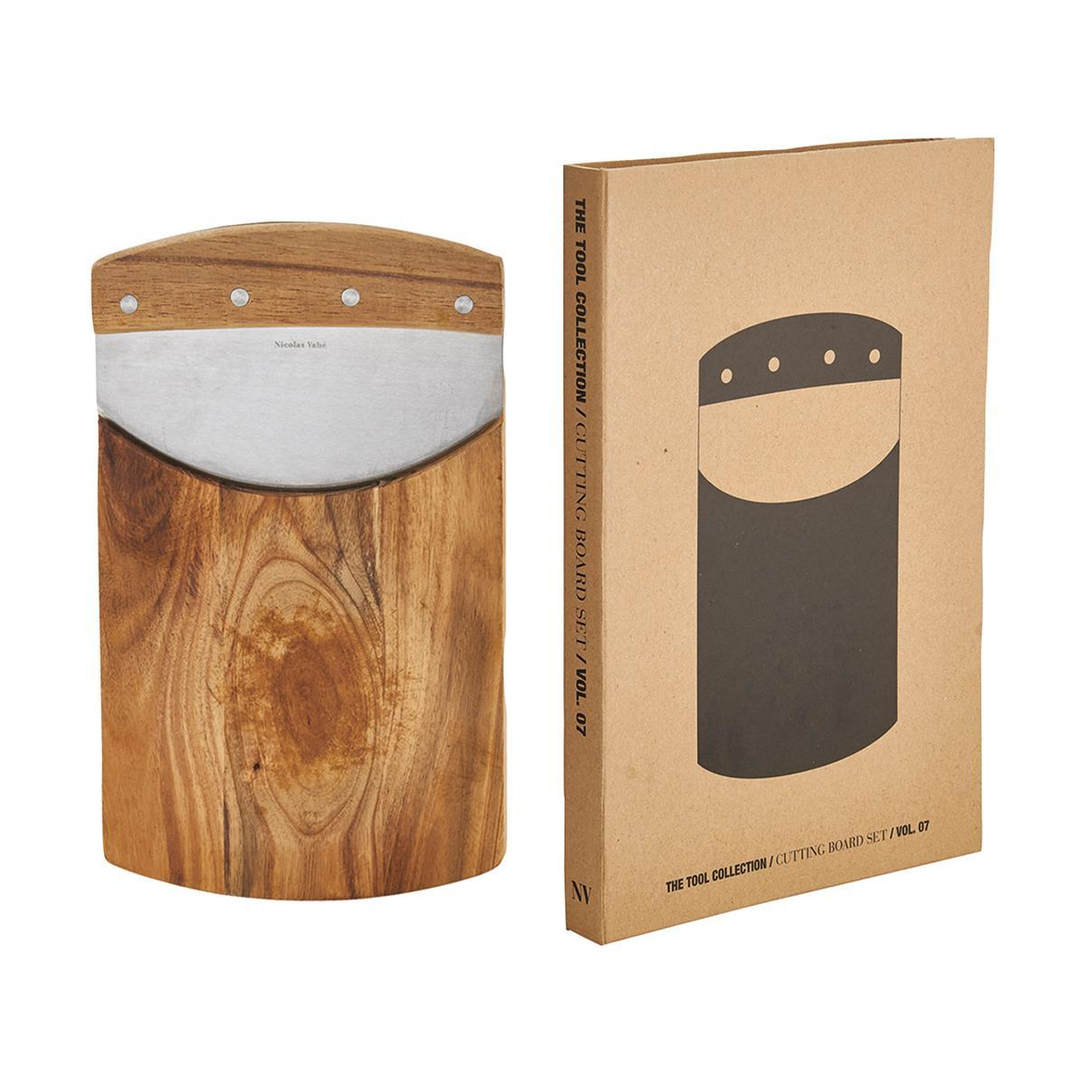gloved_hand: (59, 208, 524, 913)
